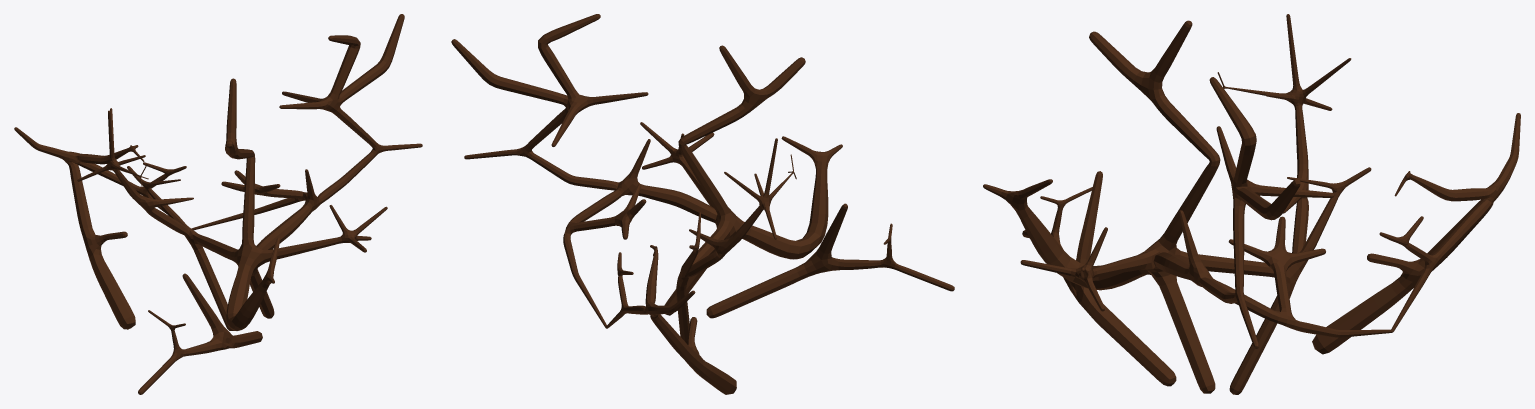
The model's file is arbusto1.fbx.
3 views of the same model, side by side, from view 1: azimuth 30°, elevation 25°; view 2: azimuth 150°, elevation 25°; view 3: azimuth 270°, elevation 25° (orthographic). The views are drawn at different scales.
Visible parts, largest first — view 1: arbusto1; view 2: arbusto1; view 3: arbusto1.
Part boxes in pixels (left/top/right/bottom): arbusto1: left=14, top=14, right=422, bottom=394; arbusto1: left=451, top=14, right=954, bottom=394; arbusto1: left=983, top=14, right=1520, bottom=394.
Bounding box in the file's own units: 214 × 157 × 200.
